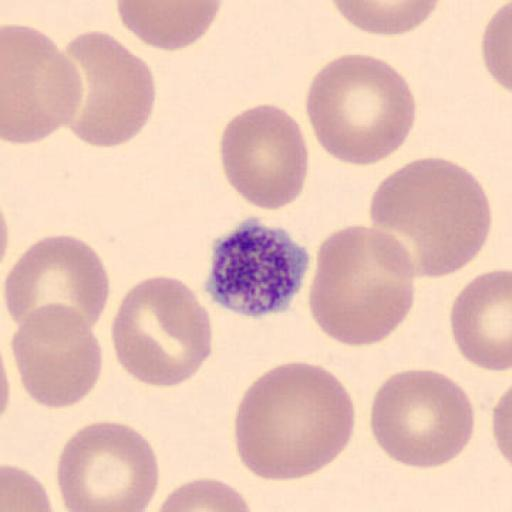Platelet: (201, 216, 314, 320)
RBC: (367, 154, 493, 280), (231, 359, 356, 483), (306, 223, 416, 347), (304, 52, 418, 167), (110, 274, 214, 389), (60, 29, 156, 150), (2, 232, 112, 336), (369, 367, 477, 472), (11, 300, 103, 409), (218, 103, 310, 212), (1, 24, 84, 144), (56, 419, 160, 512), (449, 267, 512, 373), (115, 0, 223, 51), (328, 0, 442, 38), (151, 476, 253, 512), (480, 0, 512, 96), (1, 462, 53, 512), (490, 380, 512, 471), (0, 347, 11, 429), (0, 198, 10, 280)
